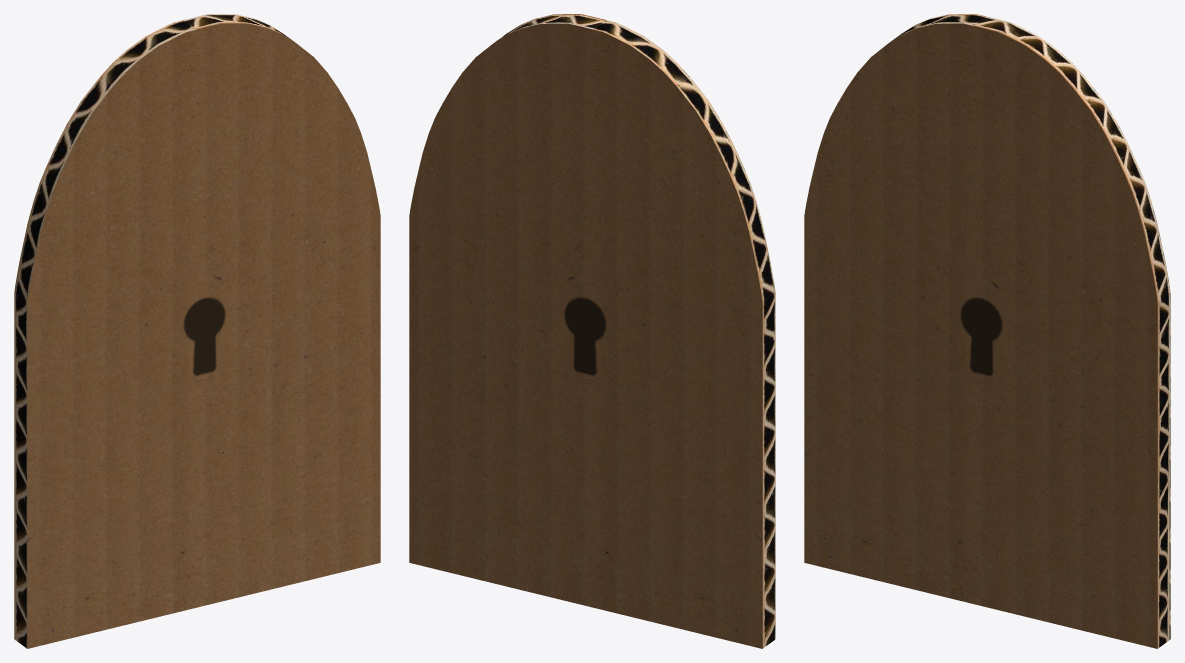
The model's file is gateDoor.fbx.
3 renders of one model, left to right at view 1: azimuth 30°, elevation 25°; view 2: azimuth 150°, elevation 25°; view 3: azimuth 330°, elevation 25°, orthographic.
Visible parts, largest first — view 1: door; view 2: door; view 3: door.
Part boxes in pixels (<box>): door: <box>14,14,380,648</box>; door: <box>409,14,775,648</box>; door: <box>804,14,1170,648</box>.
Bounding box in the file's own units: 313 × 489 × 20.08.
